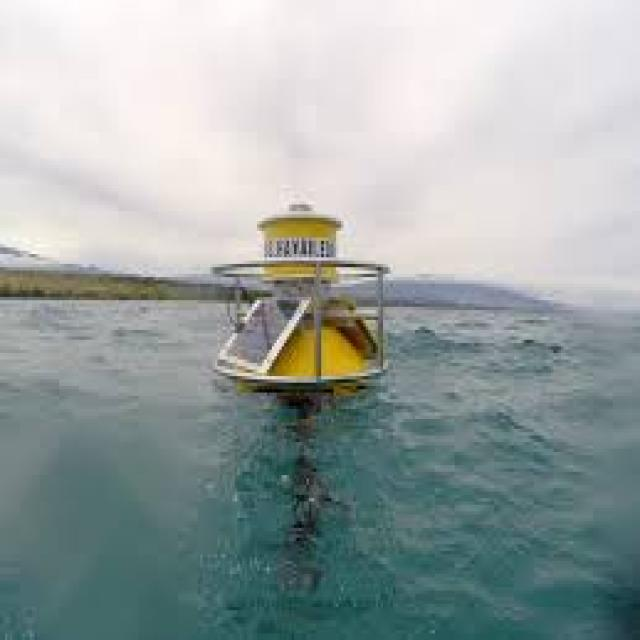2.5 sepcial mark: (205, 178, 400, 419)
